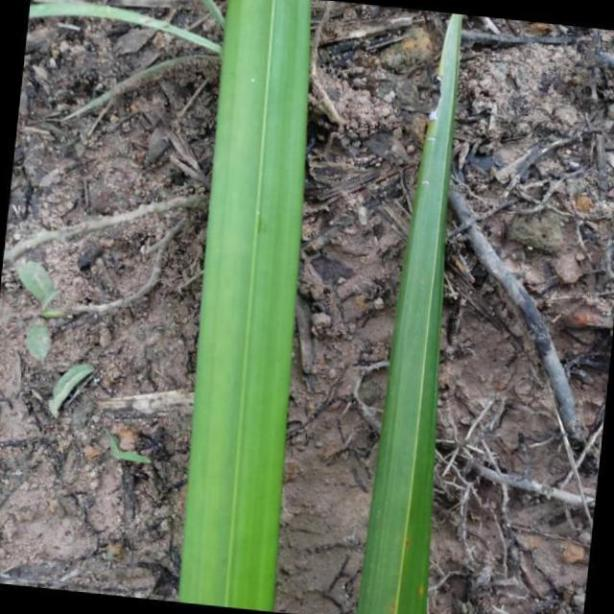nitrogen: (176, 0, 315, 614)
